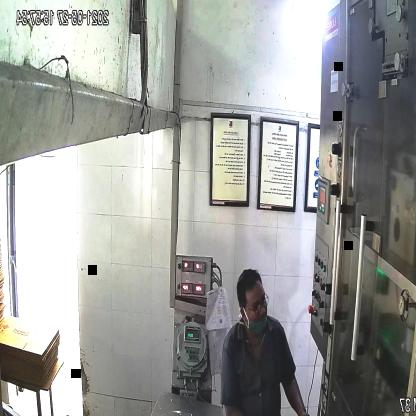goggles: (240, 290, 271, 319)
